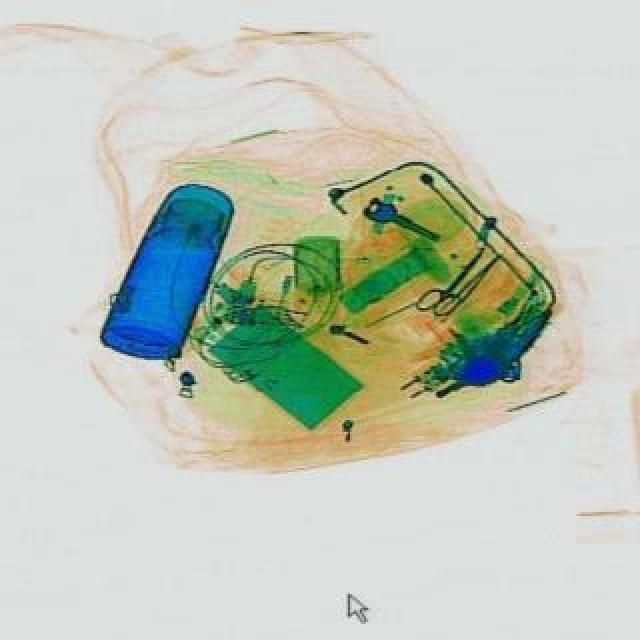pliers: (410, 236, 494, 324)
